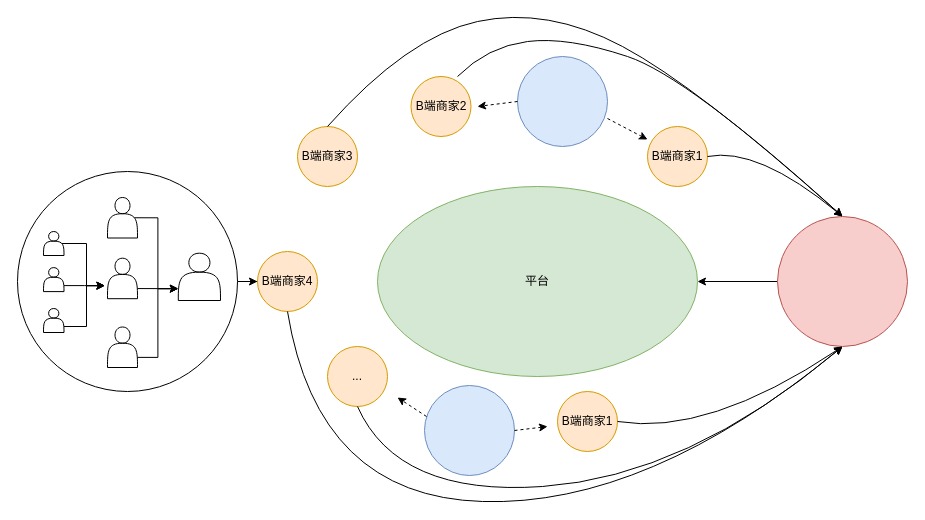
The diagram is 925 pixels wide and 520 high, and some of its shapes have lost their labels. The centre of each missing label's shape, as x and y in pixels:
投资方: the point at 842,281
经销商1: the point at 562,101
经销商2: the point at 469,430
